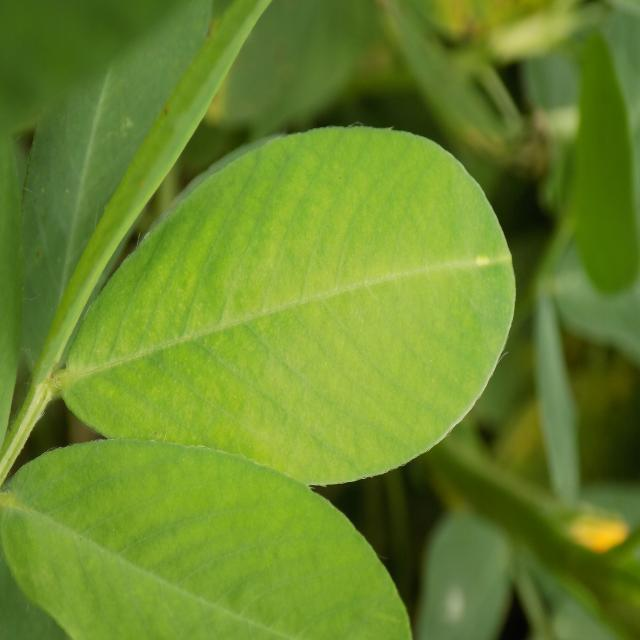Ground nut_healthy: (60, 118, 516, 486)
